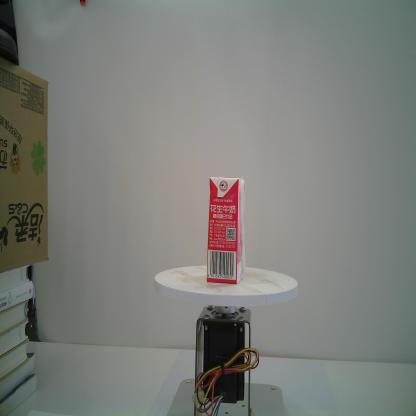Milk: (205, 176, 247, 286)
